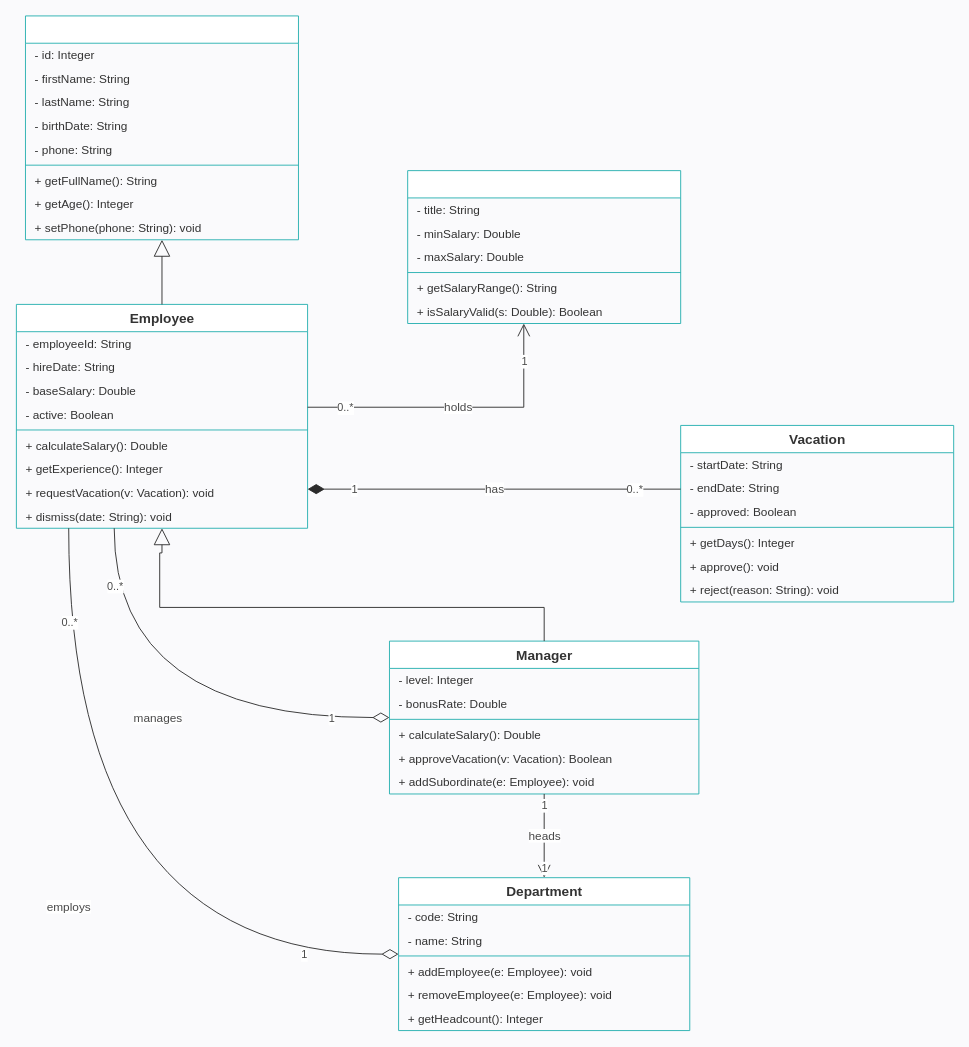
This 969x1047 diagram has some shape labels left out. Each missing label, with the box of its shape:
Person: (25, 15, 298, 240)
Position: (407, 170, 681, 324)
